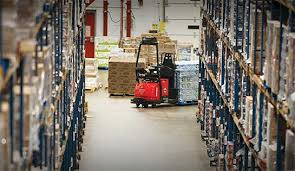Pallet Jack: (131, 37, 198, 108)
